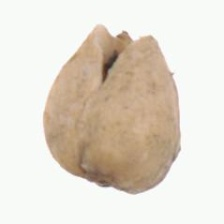L1: (90, 22, 155, 59), (66, 167, 138, 195)
L2: (43, 23, 181, 194)
